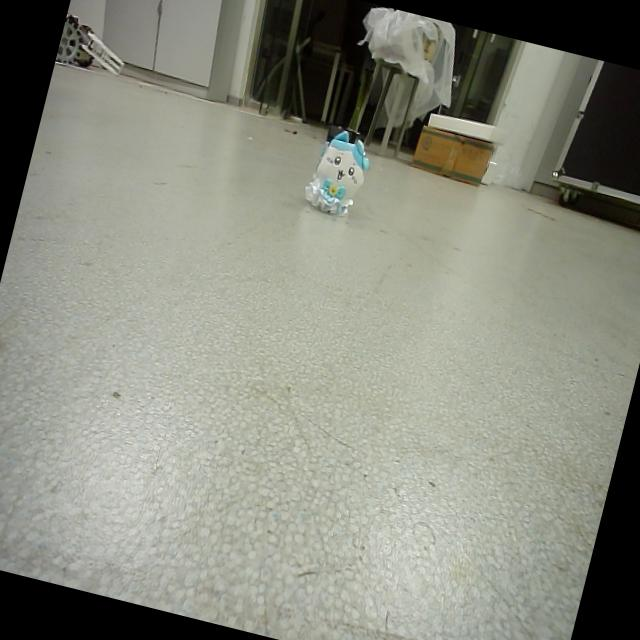xiaoba: (301, 122, 376, 224)
